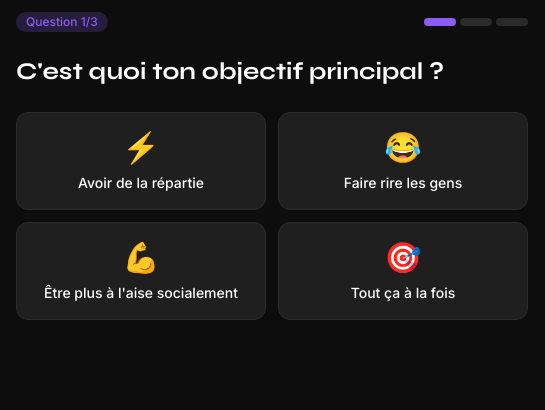
Test: HumorQuiz › shows result for EXPERT path
Click the text "Avoir de la répartie": (141, 183) [78, 173, 204, 193]
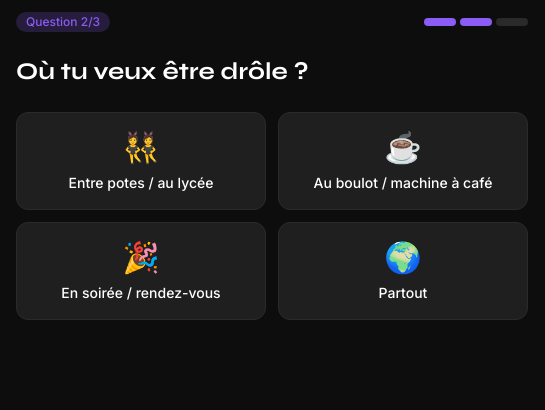
Click the text "Entre potes / au lycée": (141, 183) [68, 173, 213, 193]
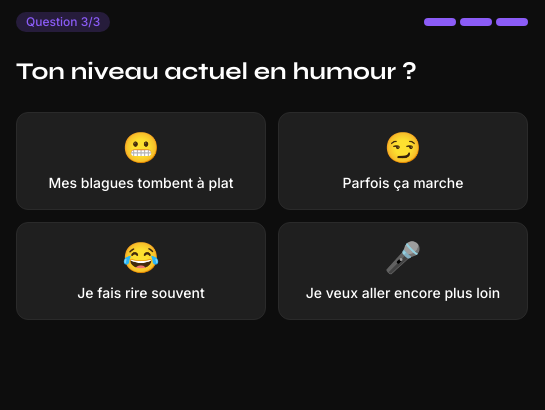
Click the text "Je veux aller encore plus loin": (403, 293) [306, 283, 500, 303]
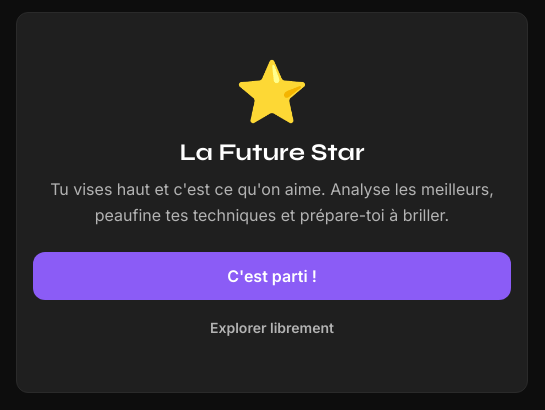
Result: the heading "La Future Star" is shown at [179, 138, 365, 167]
Result: the text "⭐" is shown at [235, 55, 310, 127]
